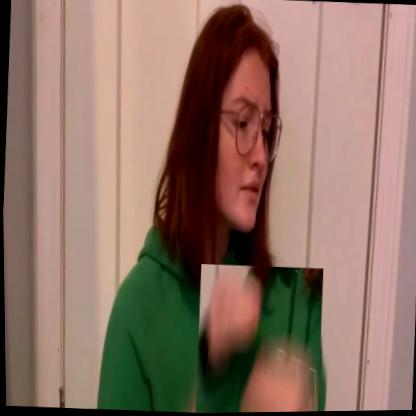Fix: (192, 262, 324, 414)
